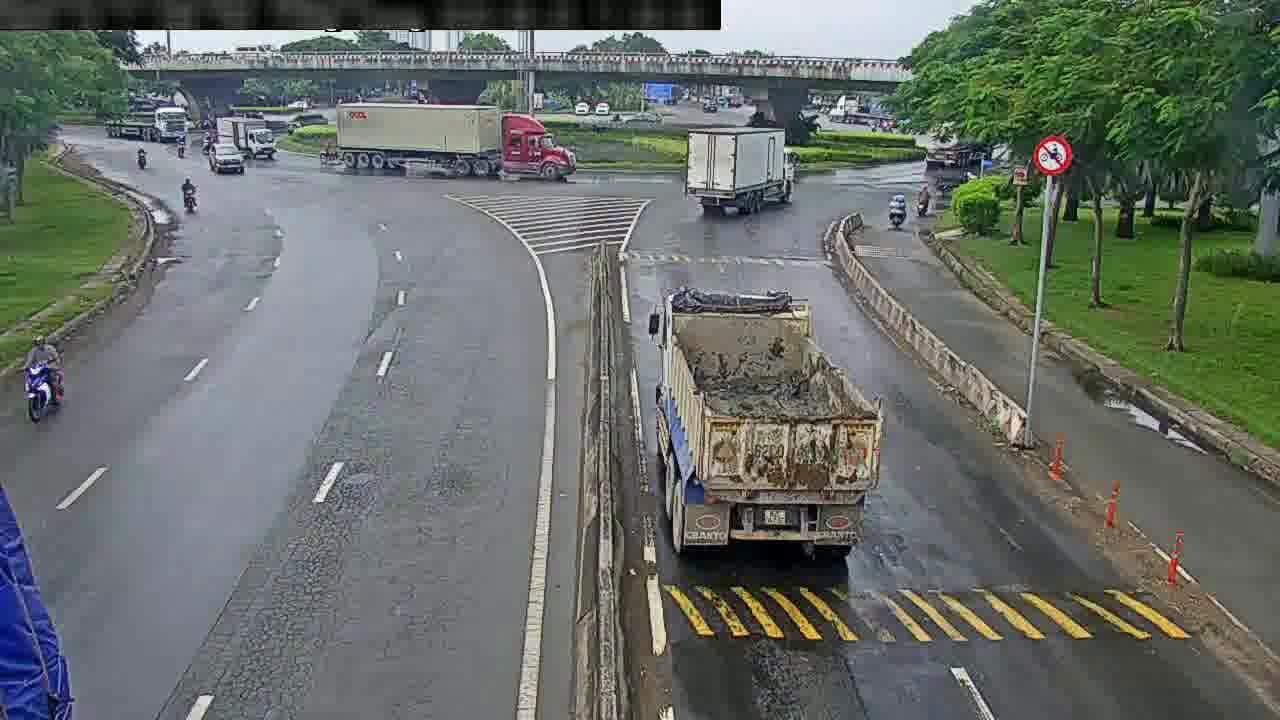8: (646, 275, 891, 563), (329, 94, 589, 186), (680, 125, 812, 214), (211, 107, 281, 161)
container: (201, 139, 247, 178)
motorbike: (18, 334, 76, 427), (886, 190, 907, 231), (913, 181, 933, 219), (181, 176, 201, 213), (132, 142, 149, 171)
